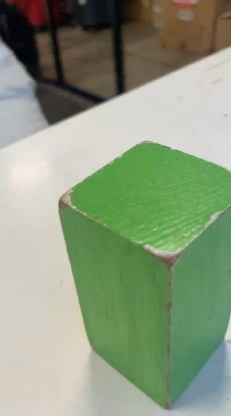green: (52, 143, 225, 406)
